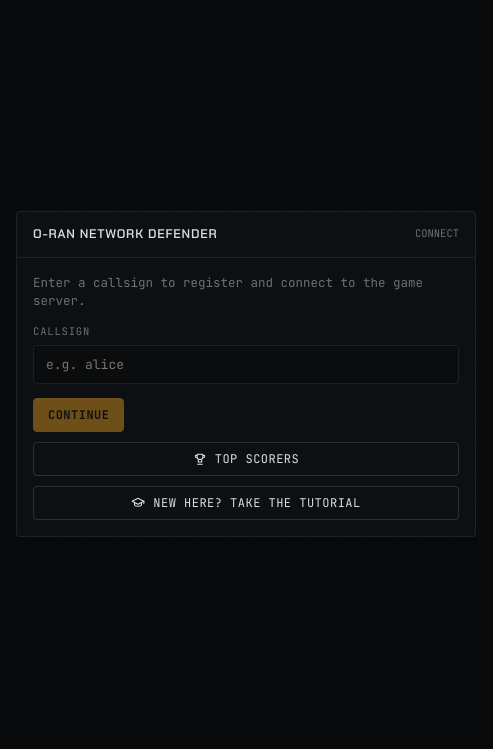
Test: Lobby › joins by code, enables ready once two players are present, and enters after active countdown
Type "alice" into the field with placeholder "e.g. alice" at (246, 365), box [33,345,459,384]
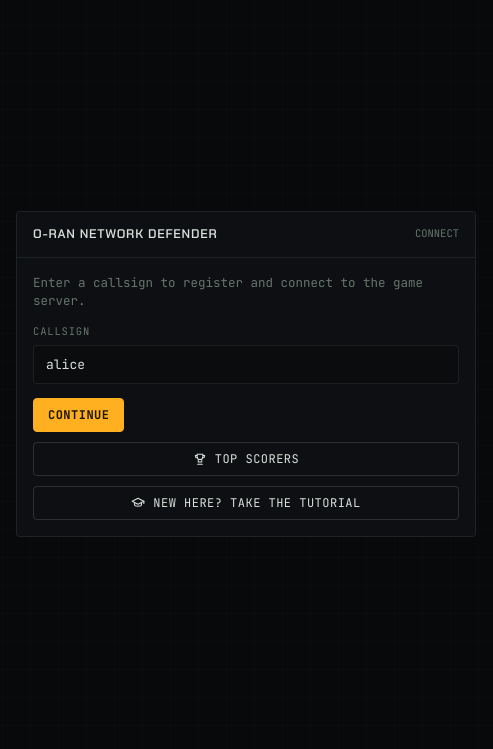
Click the button "Continue" at (79, 415), box [33,398,124,432]
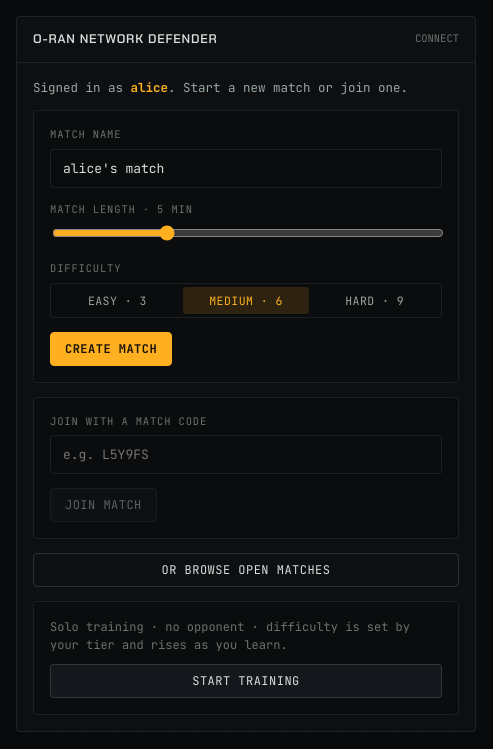
Result: the text "Signed in as alice. Start a new match or join one." is shown at [33,78,459,97]
Type "l5y9fs" into the field with placeholder "e.g. L5Y9FS" at (246, 455), box [50,435,442,474]
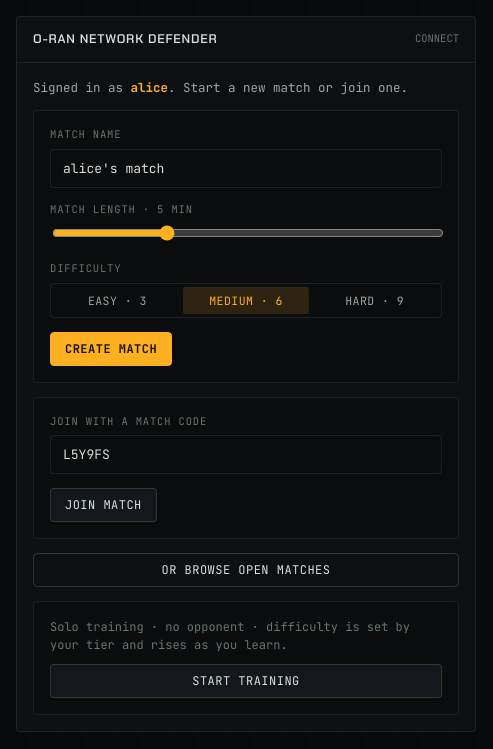
Click the button "Join match" at (103, 505), box [50,488,157,522]
Wait 3000 ms
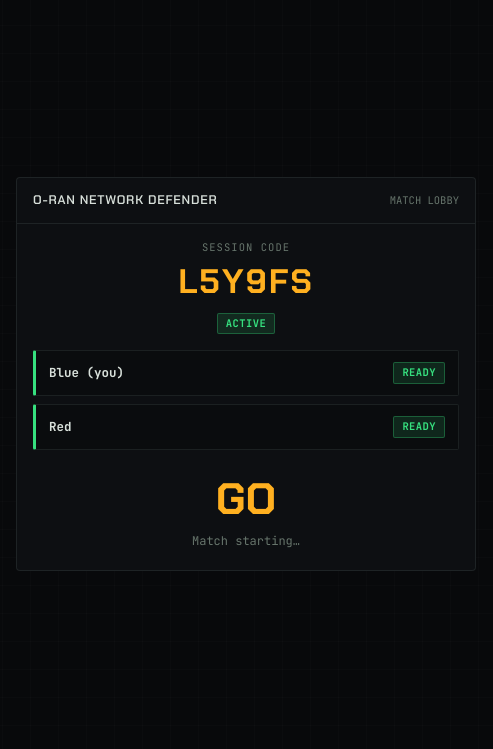
Result: the text "READY" is shown 2 times at [393,362,445,384]; [393,416,445,438]
Result: the text "3" is shown at [216,470,276,528]
